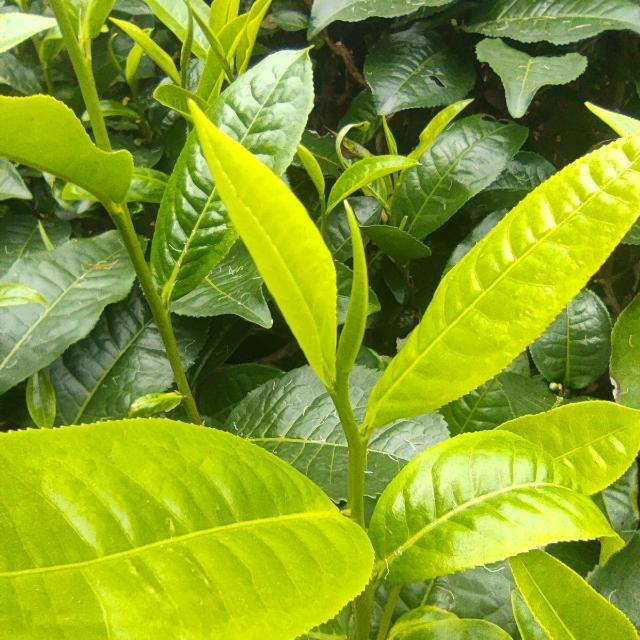Stem: (350, 441, 367, 469)
